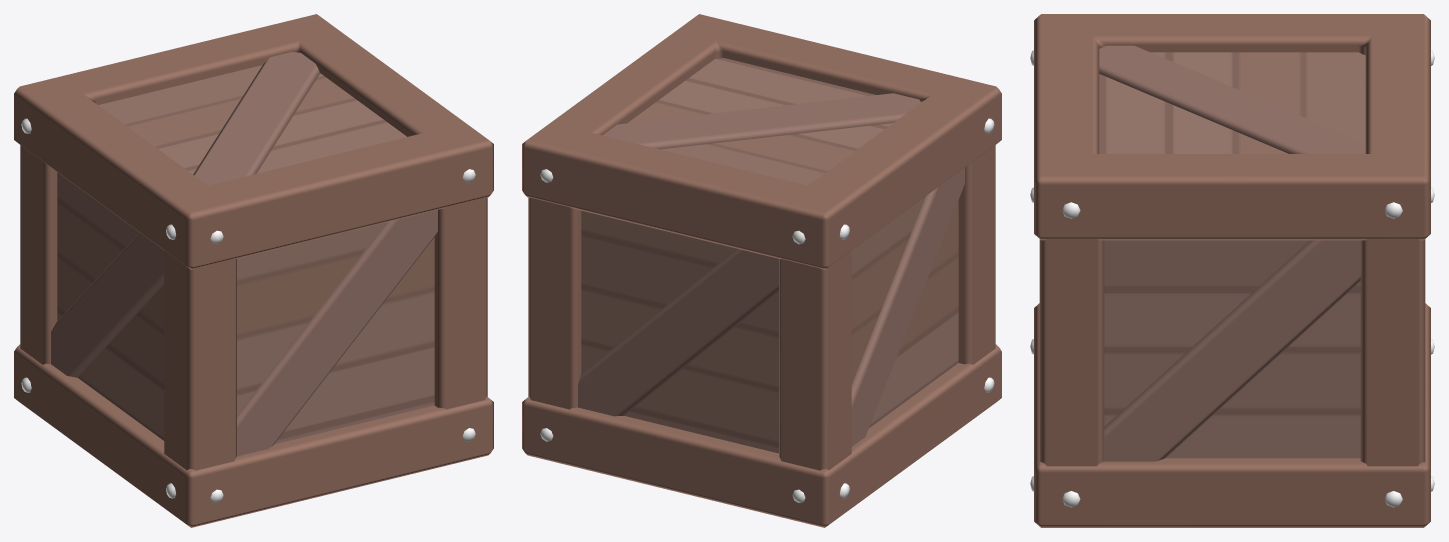
File: WoodenCrate.fbx
3 renders of one model, left to right at view 1: azimuth 30°, elevation 25°; view 2: azimuth 150°, elevation 25°; view 3: azimuth 270°, elevation 25°, orthographic. The views are drawn at different scales.
Visible parts, largest first — view 1: Cube.031; view 2: Cube.031; view 3: Cube.031.
Part boxes in pixels (x1,y1,x2,y2): Cube.031: [14, 14, 493, 527]; Cube.031: [522, 14, 1001, 527]; Cube.031: [1030, 14, 1434, 527].
Bounding box in the file's own units: 114 × 108 × 113.
